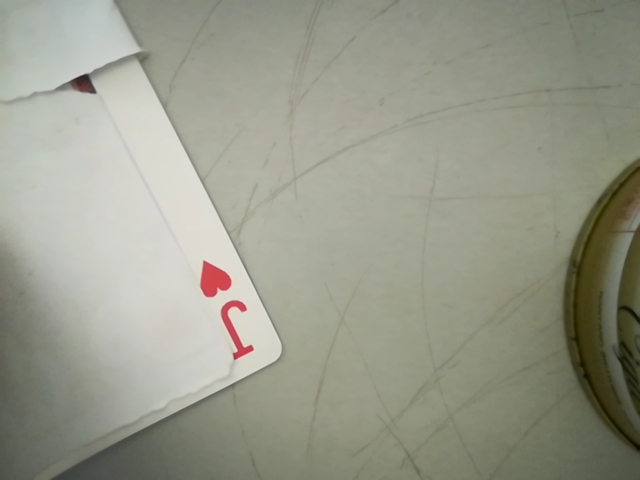hx j: (196, 248, 266, 372)
